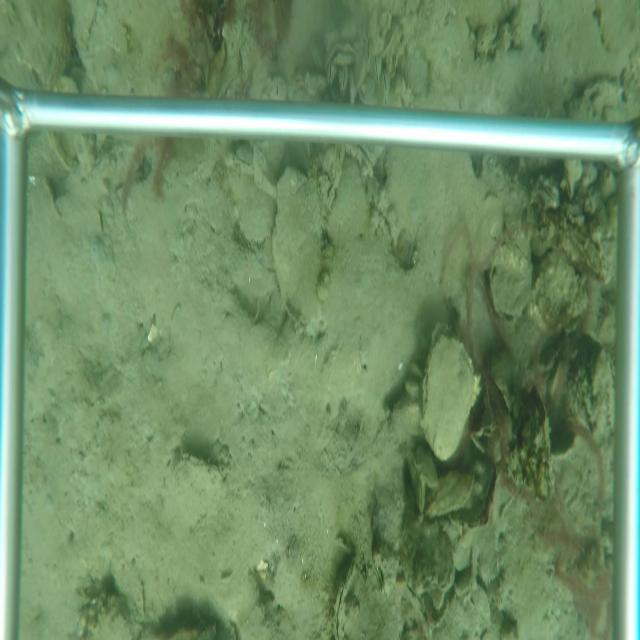Oyster-Closed: (417, 326, 480, 467), (156, 448, 228, 537), (329, 550, 361, 640), (408, 453, 426, 515), (379, 67, 391, 106), (309, 44, 323, 70), (371, 54, 383, 84), (337, 65, 348, 97), (324, 60, 335, 87), (364, 37, 374, 64)
Oyster-Indeterminate: (267, 167, 327, 345), (424, 469, 476, 520)
Oyster-Open: (485, 246, 534, 327)
